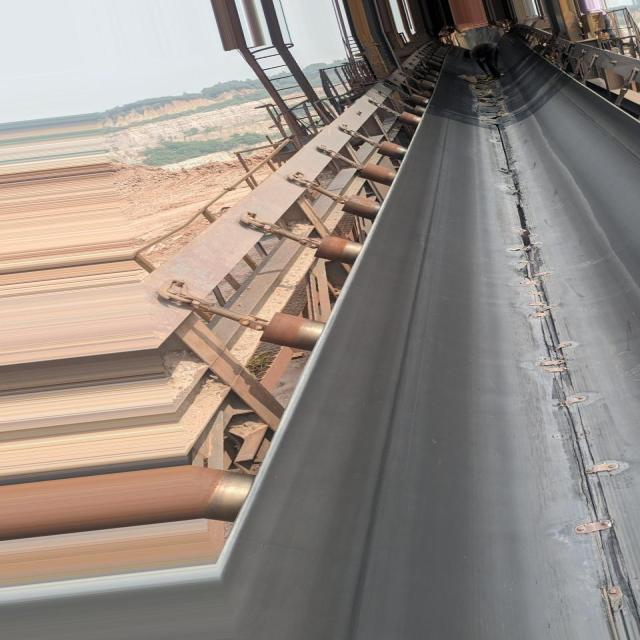Roller: (252, 48, 450, 351)
Tear: (497, 129, 543, 282)
patch work: (529, 297, 633, 615), (470, 79, 517, 124)
